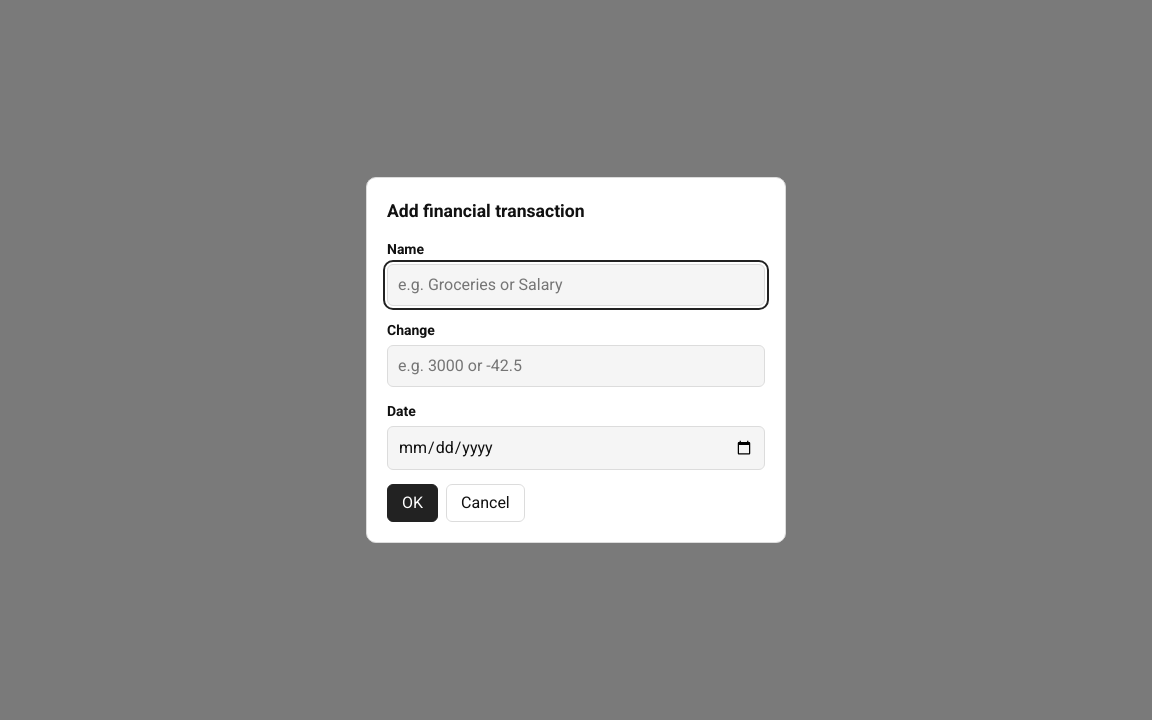
Scenario: adding › shows a general error for a non-field failure
This screenshot has width=1152, height=720.
Type "Groceries" into the field labelled "Name" at [576, 285], box left=387, top=264, right=765, bottom=306
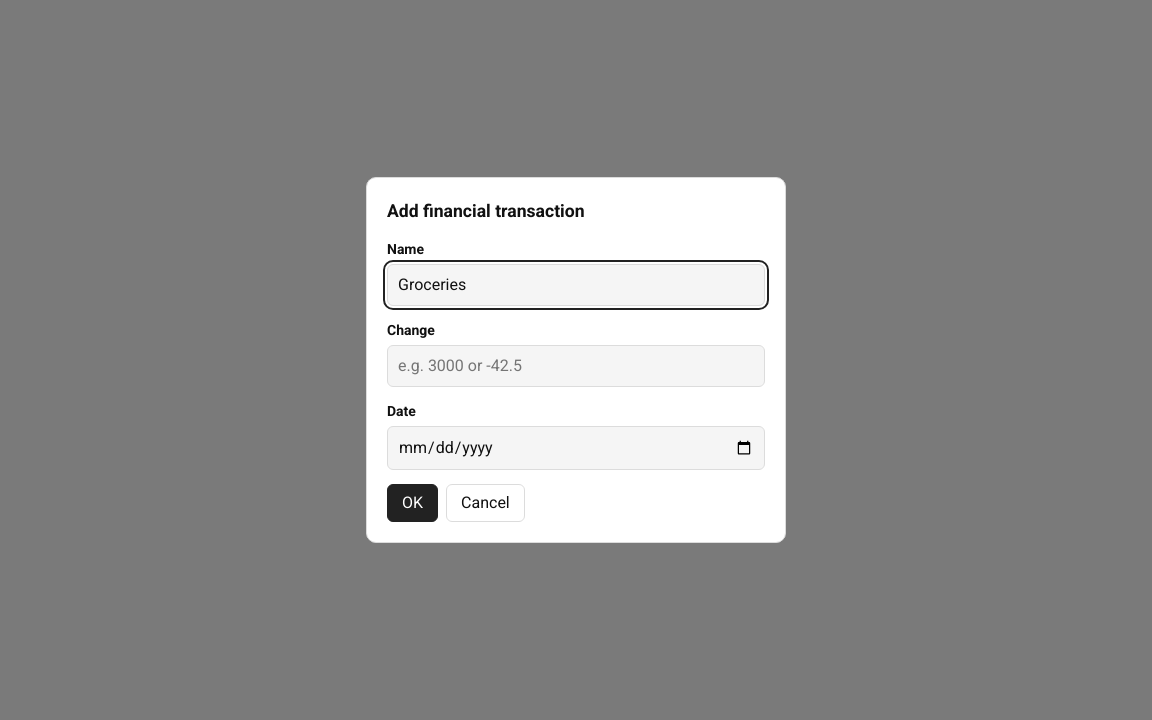
Type "1" into the field labelled "Change" at [576, 366], box left=387, top=345, right=765, bottom=387
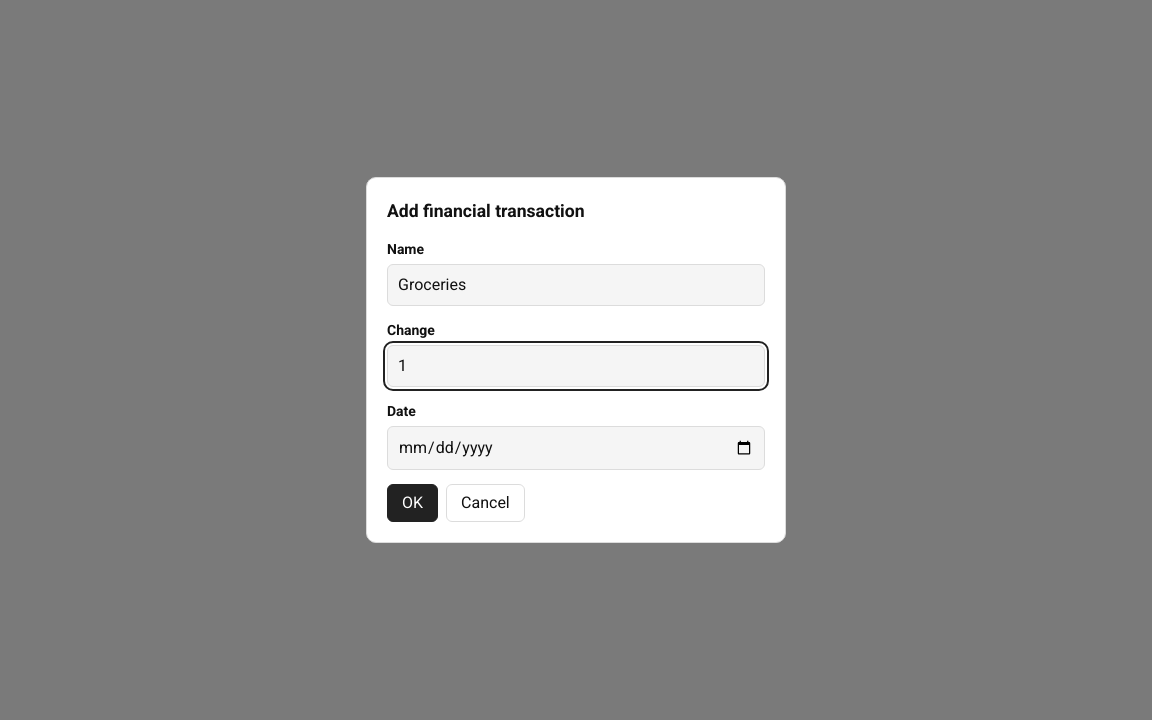
Type "2026-01-15" into the date field labelled "Date" at [576, 448], box left=387, top=426, right=765, bottom=470
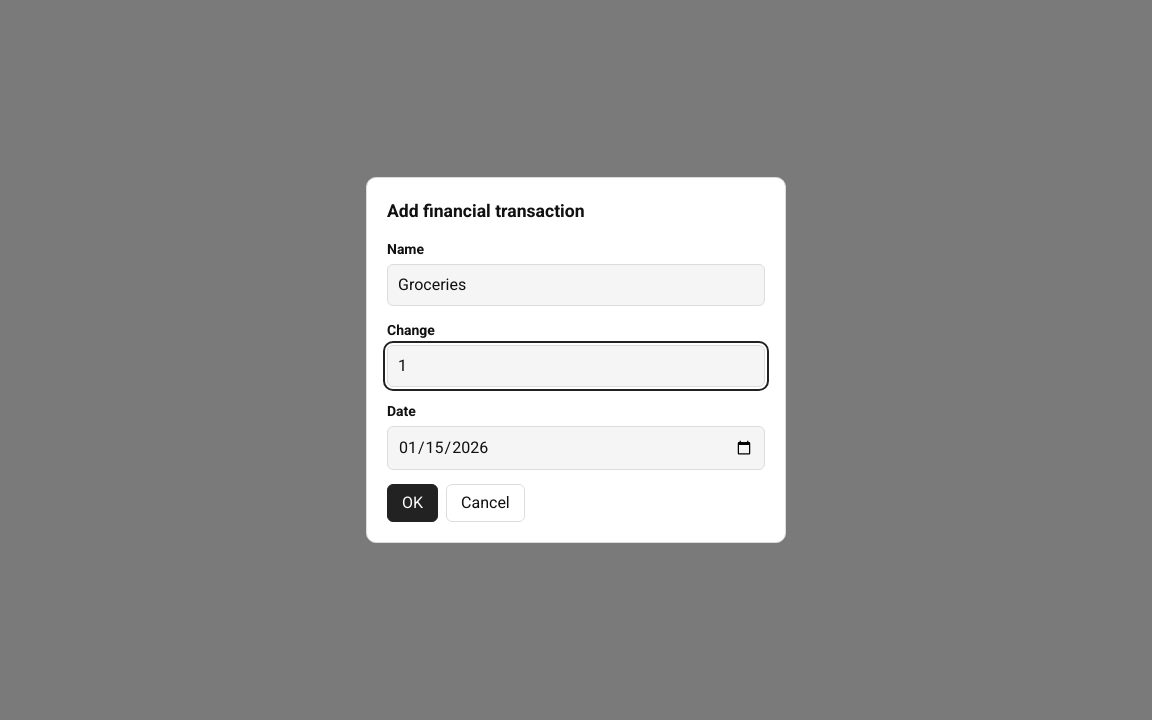
Click the button "OK" at [412, 503], box left=387, top=484, right=438, bottom=522
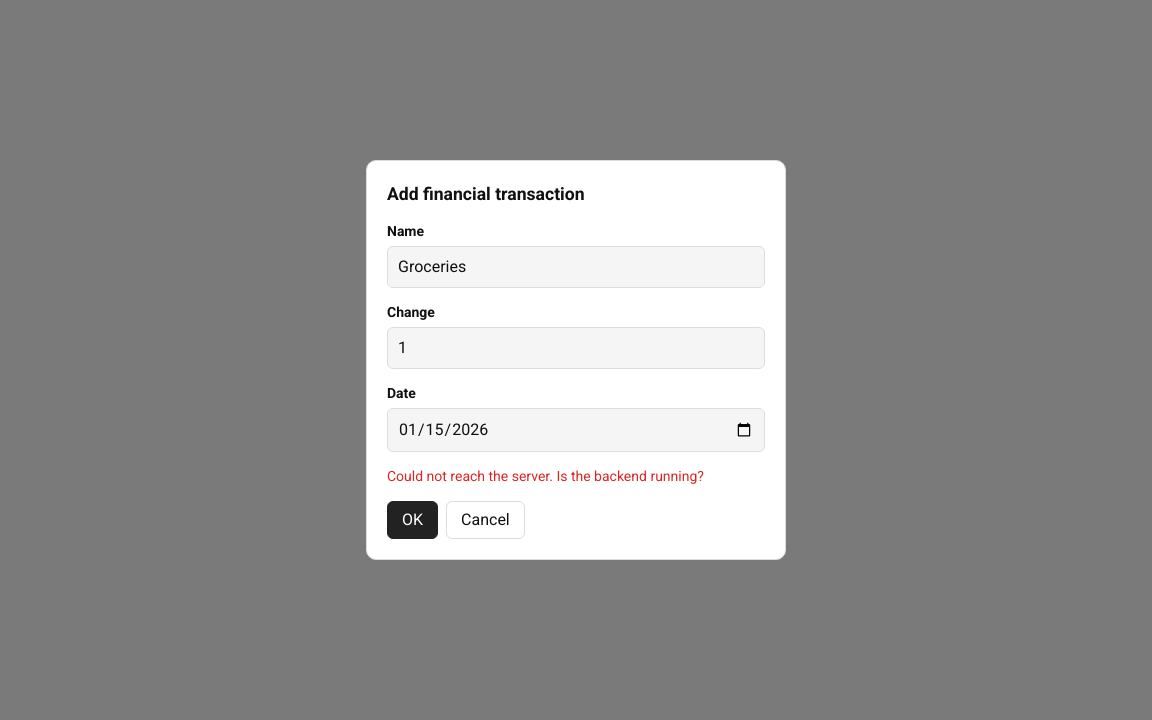
expect the message shows "Could not reach the server": met, box left=387, top=468, right=704, bottom=484
